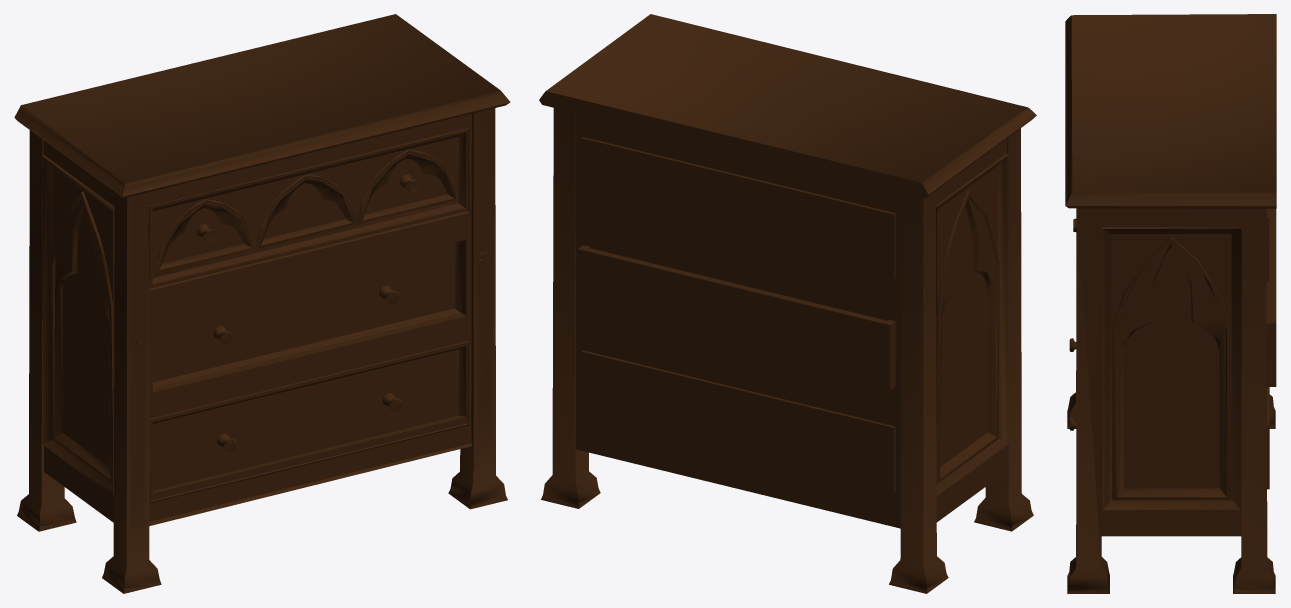
The model's file is GothicCommode_01.fbx.
The picture shows the model from 3 angles, left to right: view 1: azimuth 30°, elevation 25°; view 2: azimuth 150°, elevation 25°; view 3: azimuth 270°, elevation 25°; orthographic projection. The views are drawn at different scales.
Parts seen in each view (by area): view 1: GothicCommode_01, GothicCommode_01_Drawer1, GothicCommode_01_Drawer3, GothicCommode_01_Drawer2; view 2: GothicCommode_01, GothicCommode_01_Drawer2, GothicCommode_01_Drawer3, GothicCommode_01_Drawer1; view 3: GothicCommode_01, GothicCommode_01_Drawer2, GothicCommode_01_Drawer3, GothicCommode_01_Drawer1.
Boxes of the visible parts, x1=… form: GothicCommode_01: x1=14, y1=14, x2=510, y2=593; GothicCommode_01_Drawer1: x1=148, y1=127, x2=470, y2=290; GothicCommode_01_Drawer3: x1=149, y1=340, x2=469, y2=503; GothicCommode_01_Drawer2: x1=152, y1=241, x2=461, y2=387; GothicCommode_01: x1=539, y1=14, x2=1036, y2=593; GothicCommode_01_Drawer2: x1=577, y1=245, x2=895, y2=390; GothicCommode_01_Drawer3: x1=581, y1=350, x2=895, y2=493; GothicCommode_01_Drawer1: x1=581, y1=137, x2=895, y2=279; GothicCommode_01: x1=1065, y1=14, x2=1276, y2=593; GothicCommode_01_Drawer2: x1=1266, y1=208, x2=1276, y2=386; GothicCommode_01_Drawer3: x1=1069, y1=338, x2=1269, y2=489; GothicCommode_01_Drawer1: x1=1073, y1=208, x2=1269, y2=281.
Bounding box in the file's own units: 1.2 × 1.21 × 0.5814.
